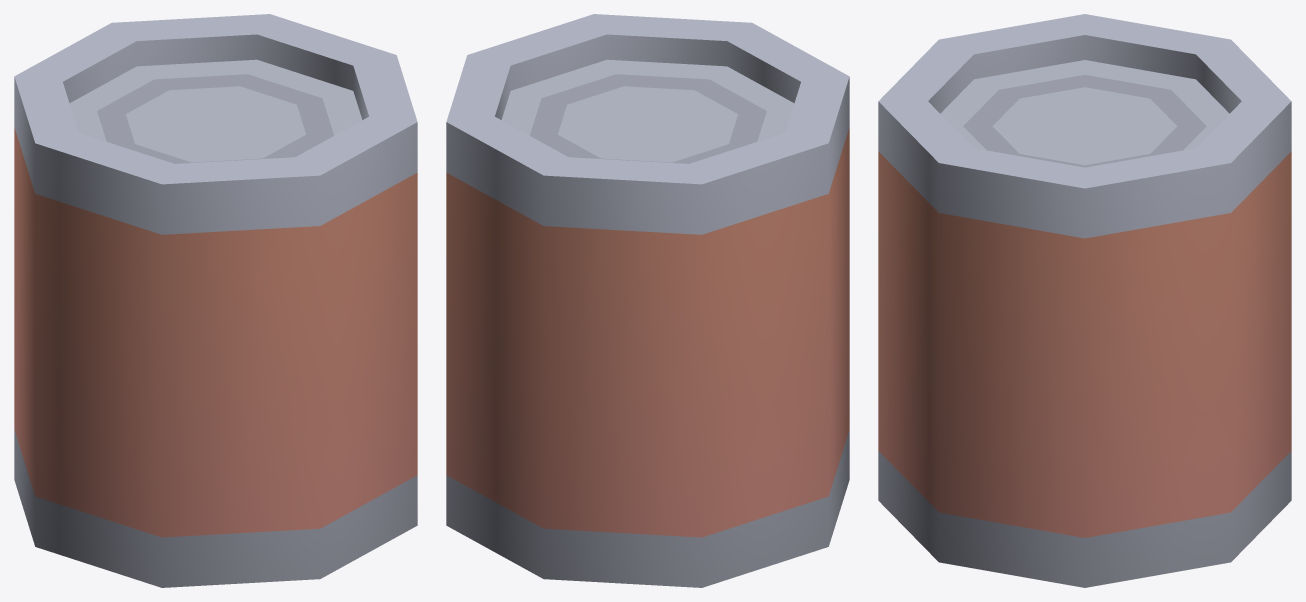
Rendered from can.glb.
The picture shows the model from 3 angles, left to right: view 1: azimuth 30°, elevation 25°; view 2: azimuth 150°, elevation 25°; view 3: azimuth 270°, elevation 25°; orthographic projection.
Parts seen in each view (by area): view 1: can; view 2: can; view 3: can.
Boxes of the visible parts, box(x1,y1,x2,y2) form: can: box(14, 14, 417, 587); can: box(446, 14, 849, 587); can: box(878, 14, 1291, 587).
Size of the model in its own units: 0.3 by 0.32 by 0.3.
